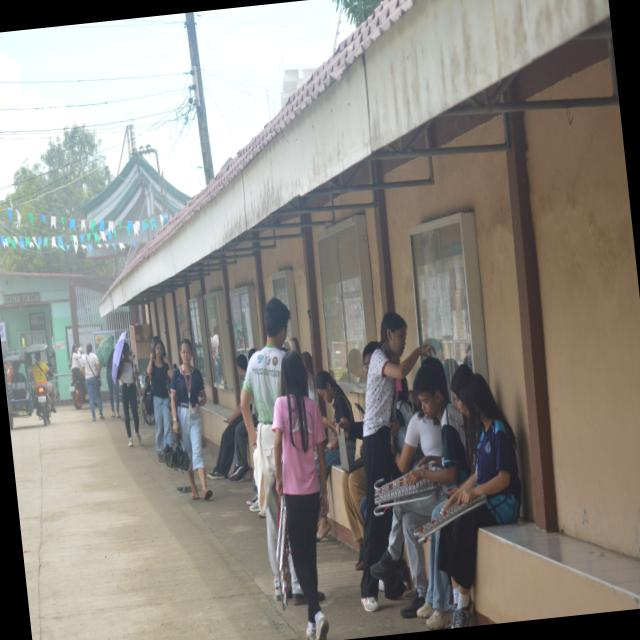person: (437, 374, 520, 627), (360, 312, 428, 612), (272, 352, 328, 639), (240, 298, 289, 599), (371, 494, 445, 618), (170, 339, 211, 500), (315, 371, 361, 458), (146, 340, 172, 461), (207, 404, 246, 479), (116, 342, 140, 446), (80, 344, 103, 421), (30, 352, 54, 412), (105, 349, 119, 417)
